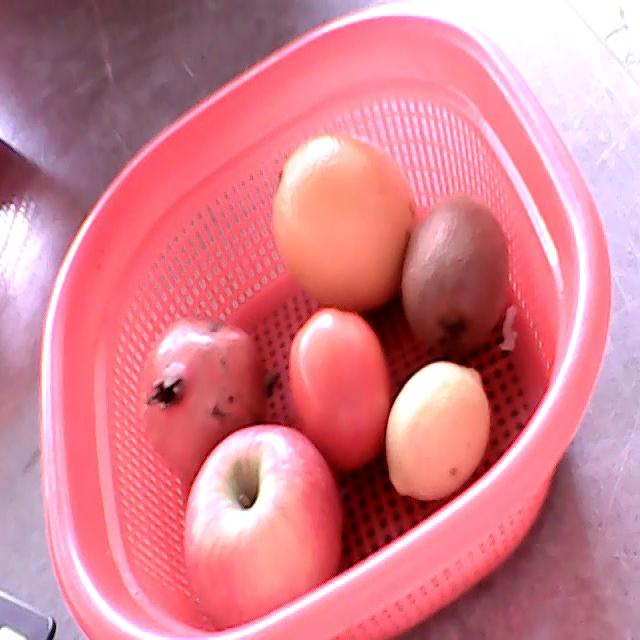apple: (184, 423, 343, 631)
kiwi: (402, 192, 507, 353)
lemon: (384, 360, 490, 501)
orange: (271, 133, 415, 311)
pomegranate: (137, 316, 267, 480)
tomato: (288, 309, 390, 471)
